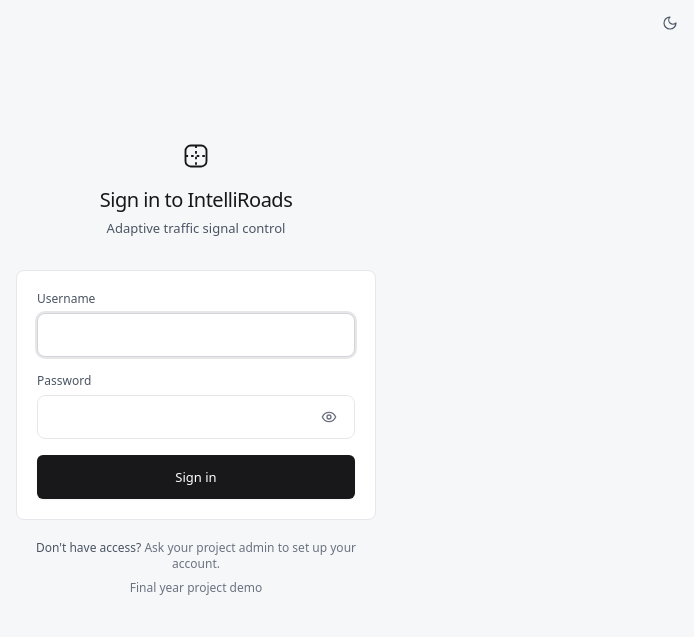
Test: LoginPage component › shows wrong credentials error when API returns 401 or unauthorized
Type "admin" into the field labelled "Username".
click(196, 335); type("admin")  # box [37,313,355,357]
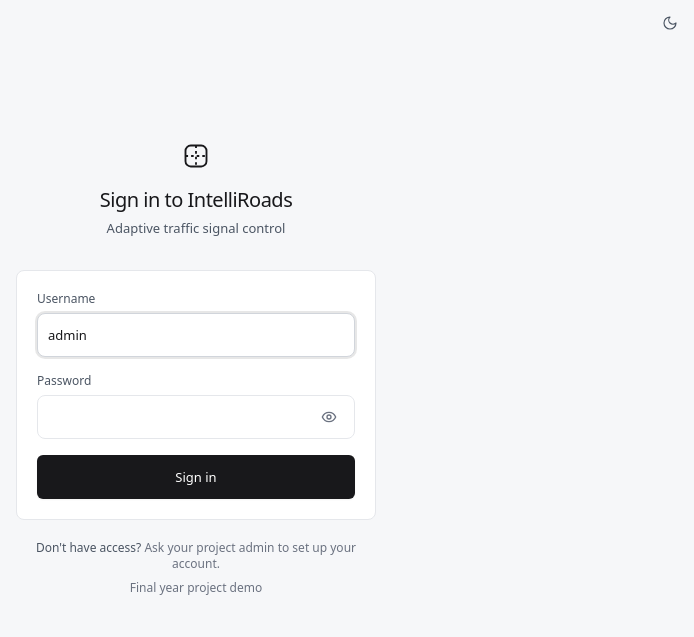
Type "wrongpass" into the password field labelled "Password".
click(196, 417); type("wrongpass")  # box [37,395,355,439]
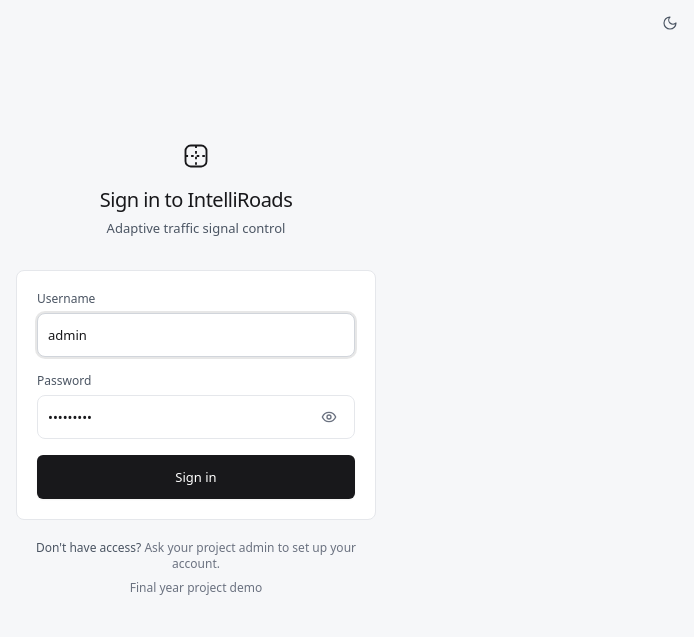
Submit the form, box [16,270,376,520]
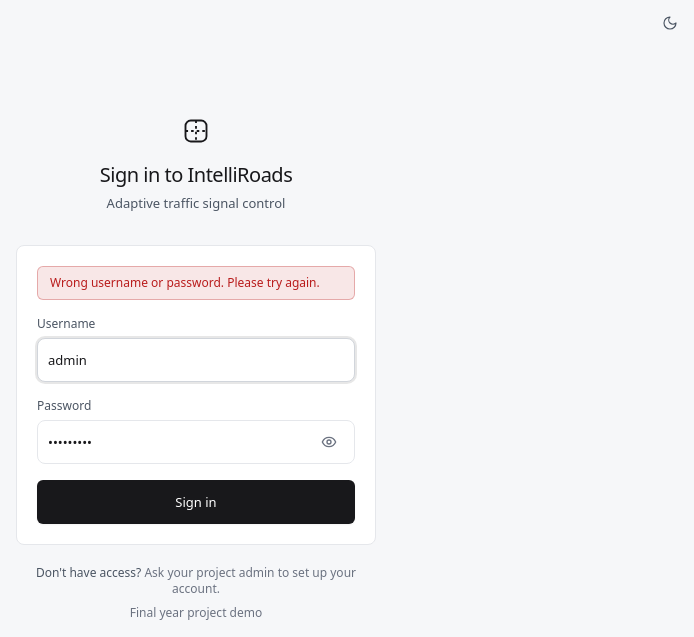
Check: the message reads "Wrong username or password. Please try again.", box [50,274,320,291]
